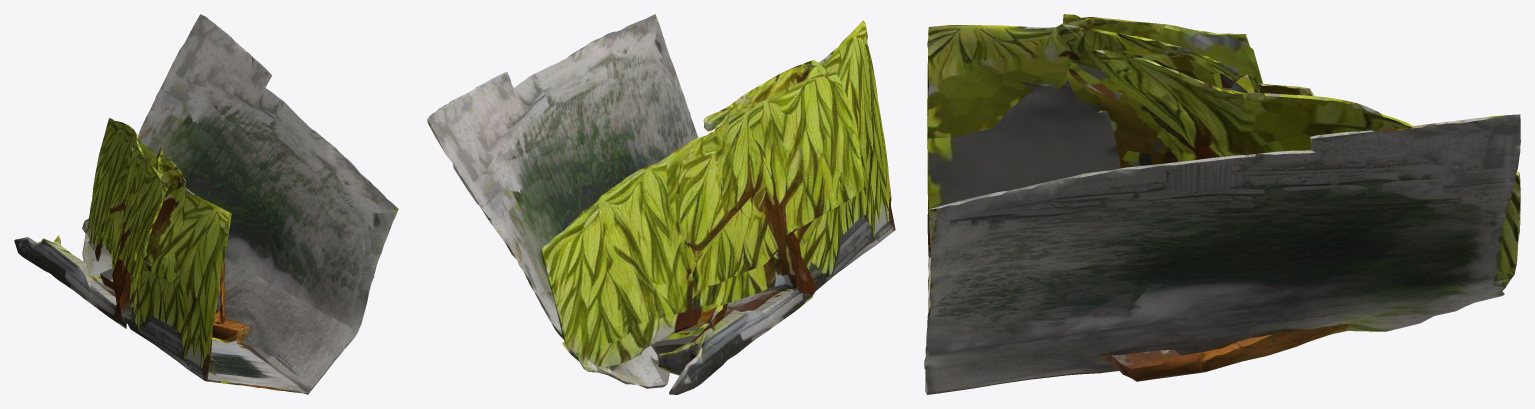
The model's file is yanagawa-river-cruise.glb.
The picture shows the model from 3 angles, left to right: view 1: azimuth 30°, elevation 25°; view 2: azimuth 150°, elevation 25°; view 3: azimuth 270°, elevation 25°; orthographic projection. The views are drawn at different scales.
Visible parts, largest first — view 1: logan-textured.obj; view 2: logan-textured.obj; view 3: logan-textured.obj.
Boxes of the visible parts, <box> form: logan-textured.obj: <box>14,14,398,394</box>; logan-textured.obj: <box>427,14,895,394</box>; logan-textured.obj: <box>924,14,1520,394</box>.
Bounding box in the file's own units: 0.6457 × 0.6358 × 1.
1 material, 1 textured.
